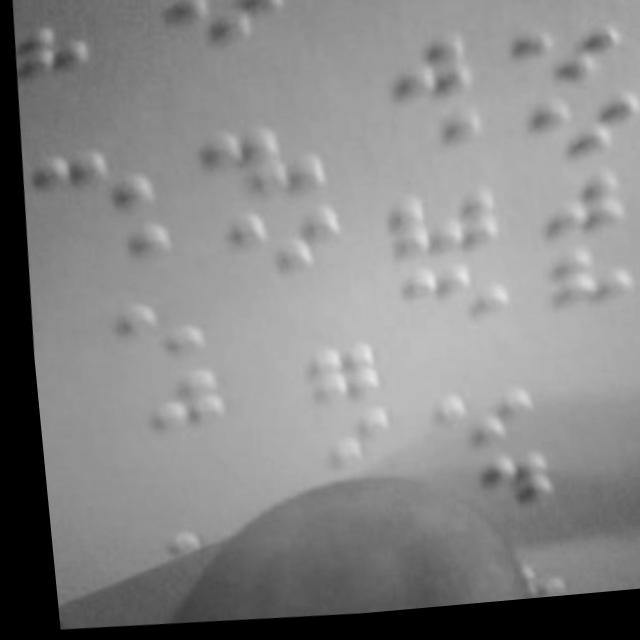braiile: (83, 366, 223, 445), (194, 123, 326, 206), (21, 141, 157, 221), (60, 299, 203, 375), (247, 341, 382, 421), (375, 187, 506, 269), (349, 38, 480, 118), (206, 204, 341, 281), (383, 260, 514, 335), (43, 220, 176, 293), (520, 100, 640, 179), (410, 385, 535, 457), (503, 27, 621, 103), (367, 115, 493, 184), (487, 0, 608, 38)
